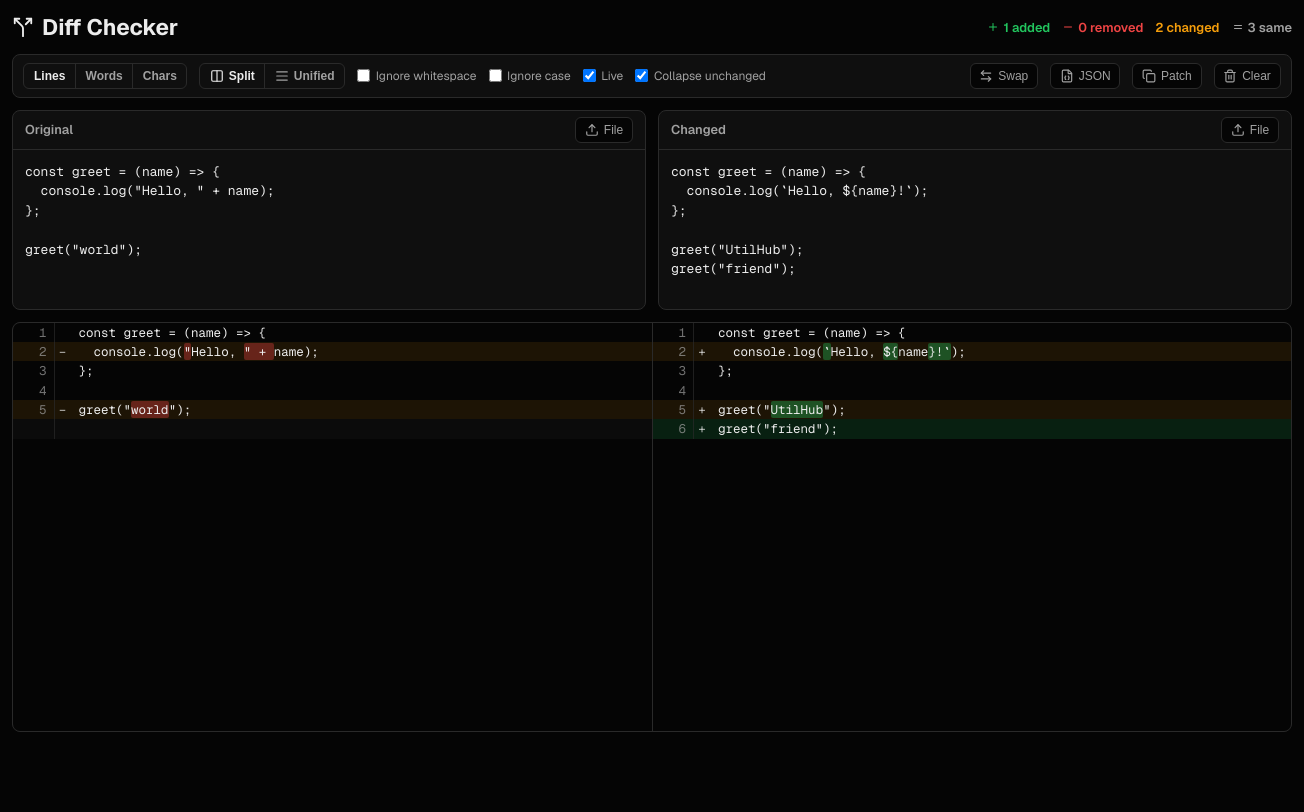
DiffTool › shows find difference when live is off
Click the label "Ignore case": click(530, 76) [488, 68, 571, 84]
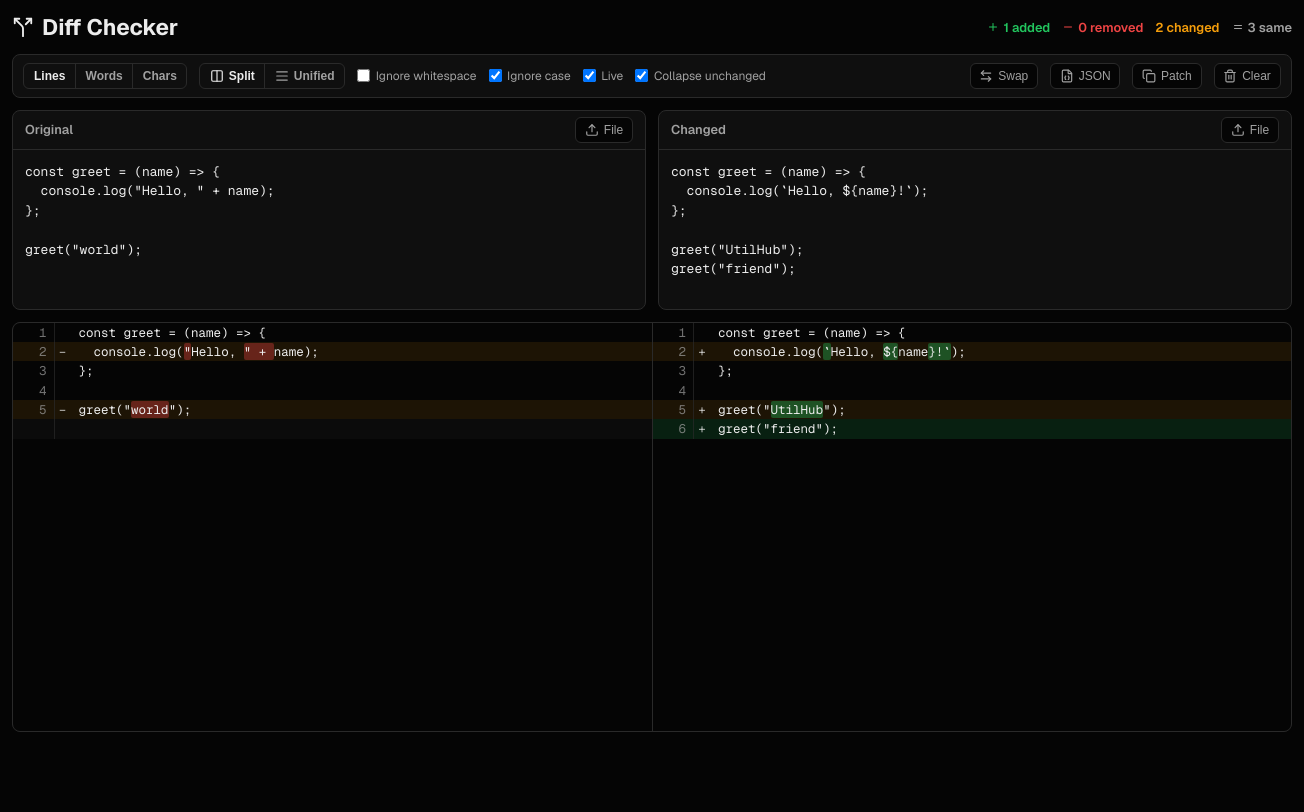
Click the checkbox labelled "Live": click(589, 76) [583, 69, 596, 82]
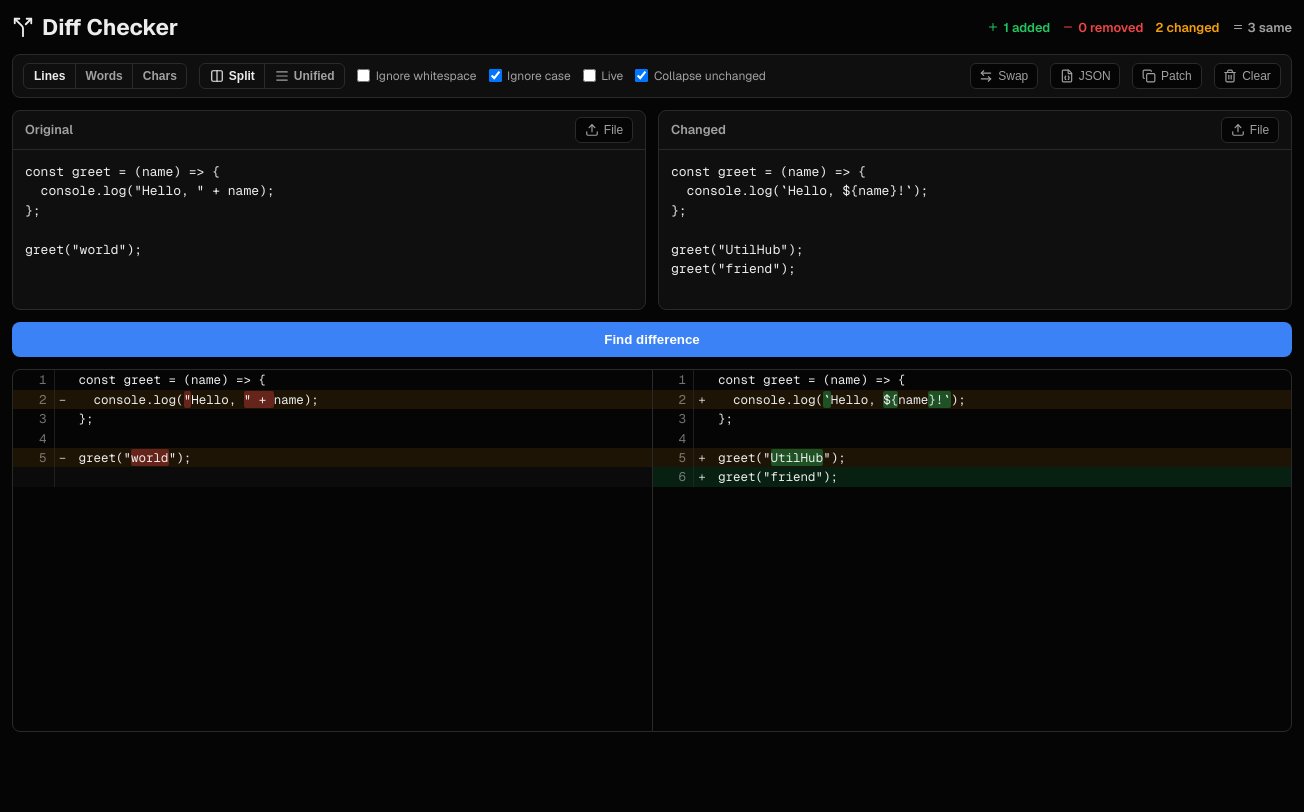
Expected: the button "Find difference" is shown, [12, 322, 1292, 357]
